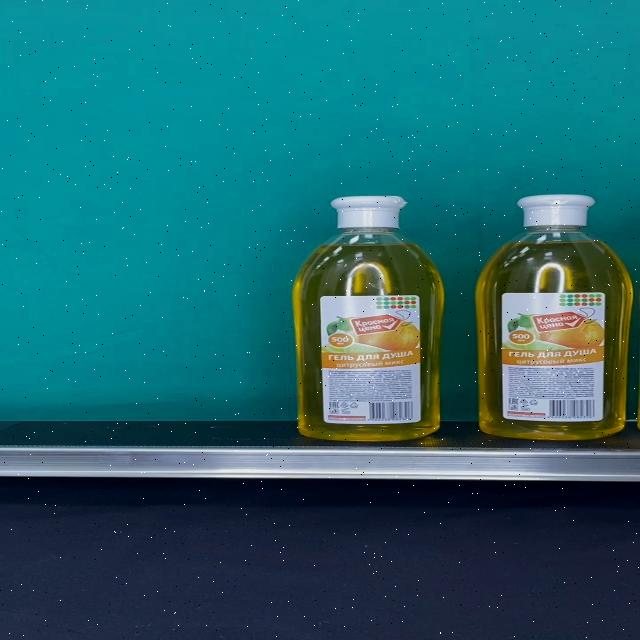Bottle: (474, 194, 633, 440), (292, 194, 445, 441)
Cap: (516, 194, 596, 227), (332, 195, 409, 229)
